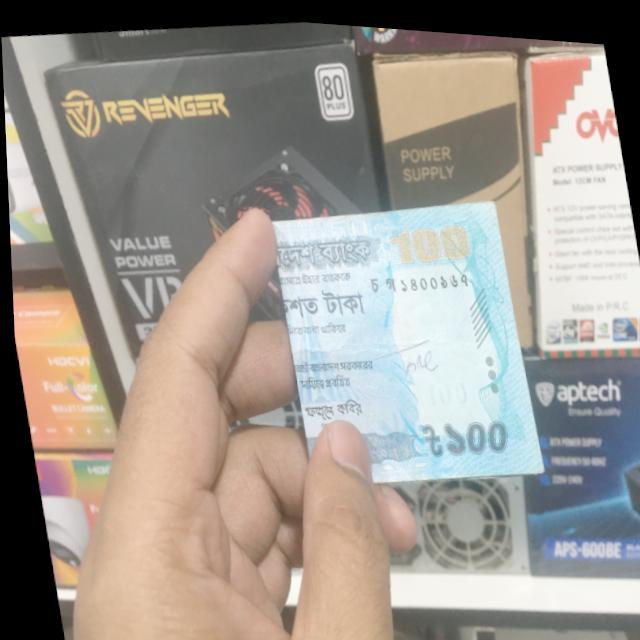Taka: (266, 186, 542, 489)
